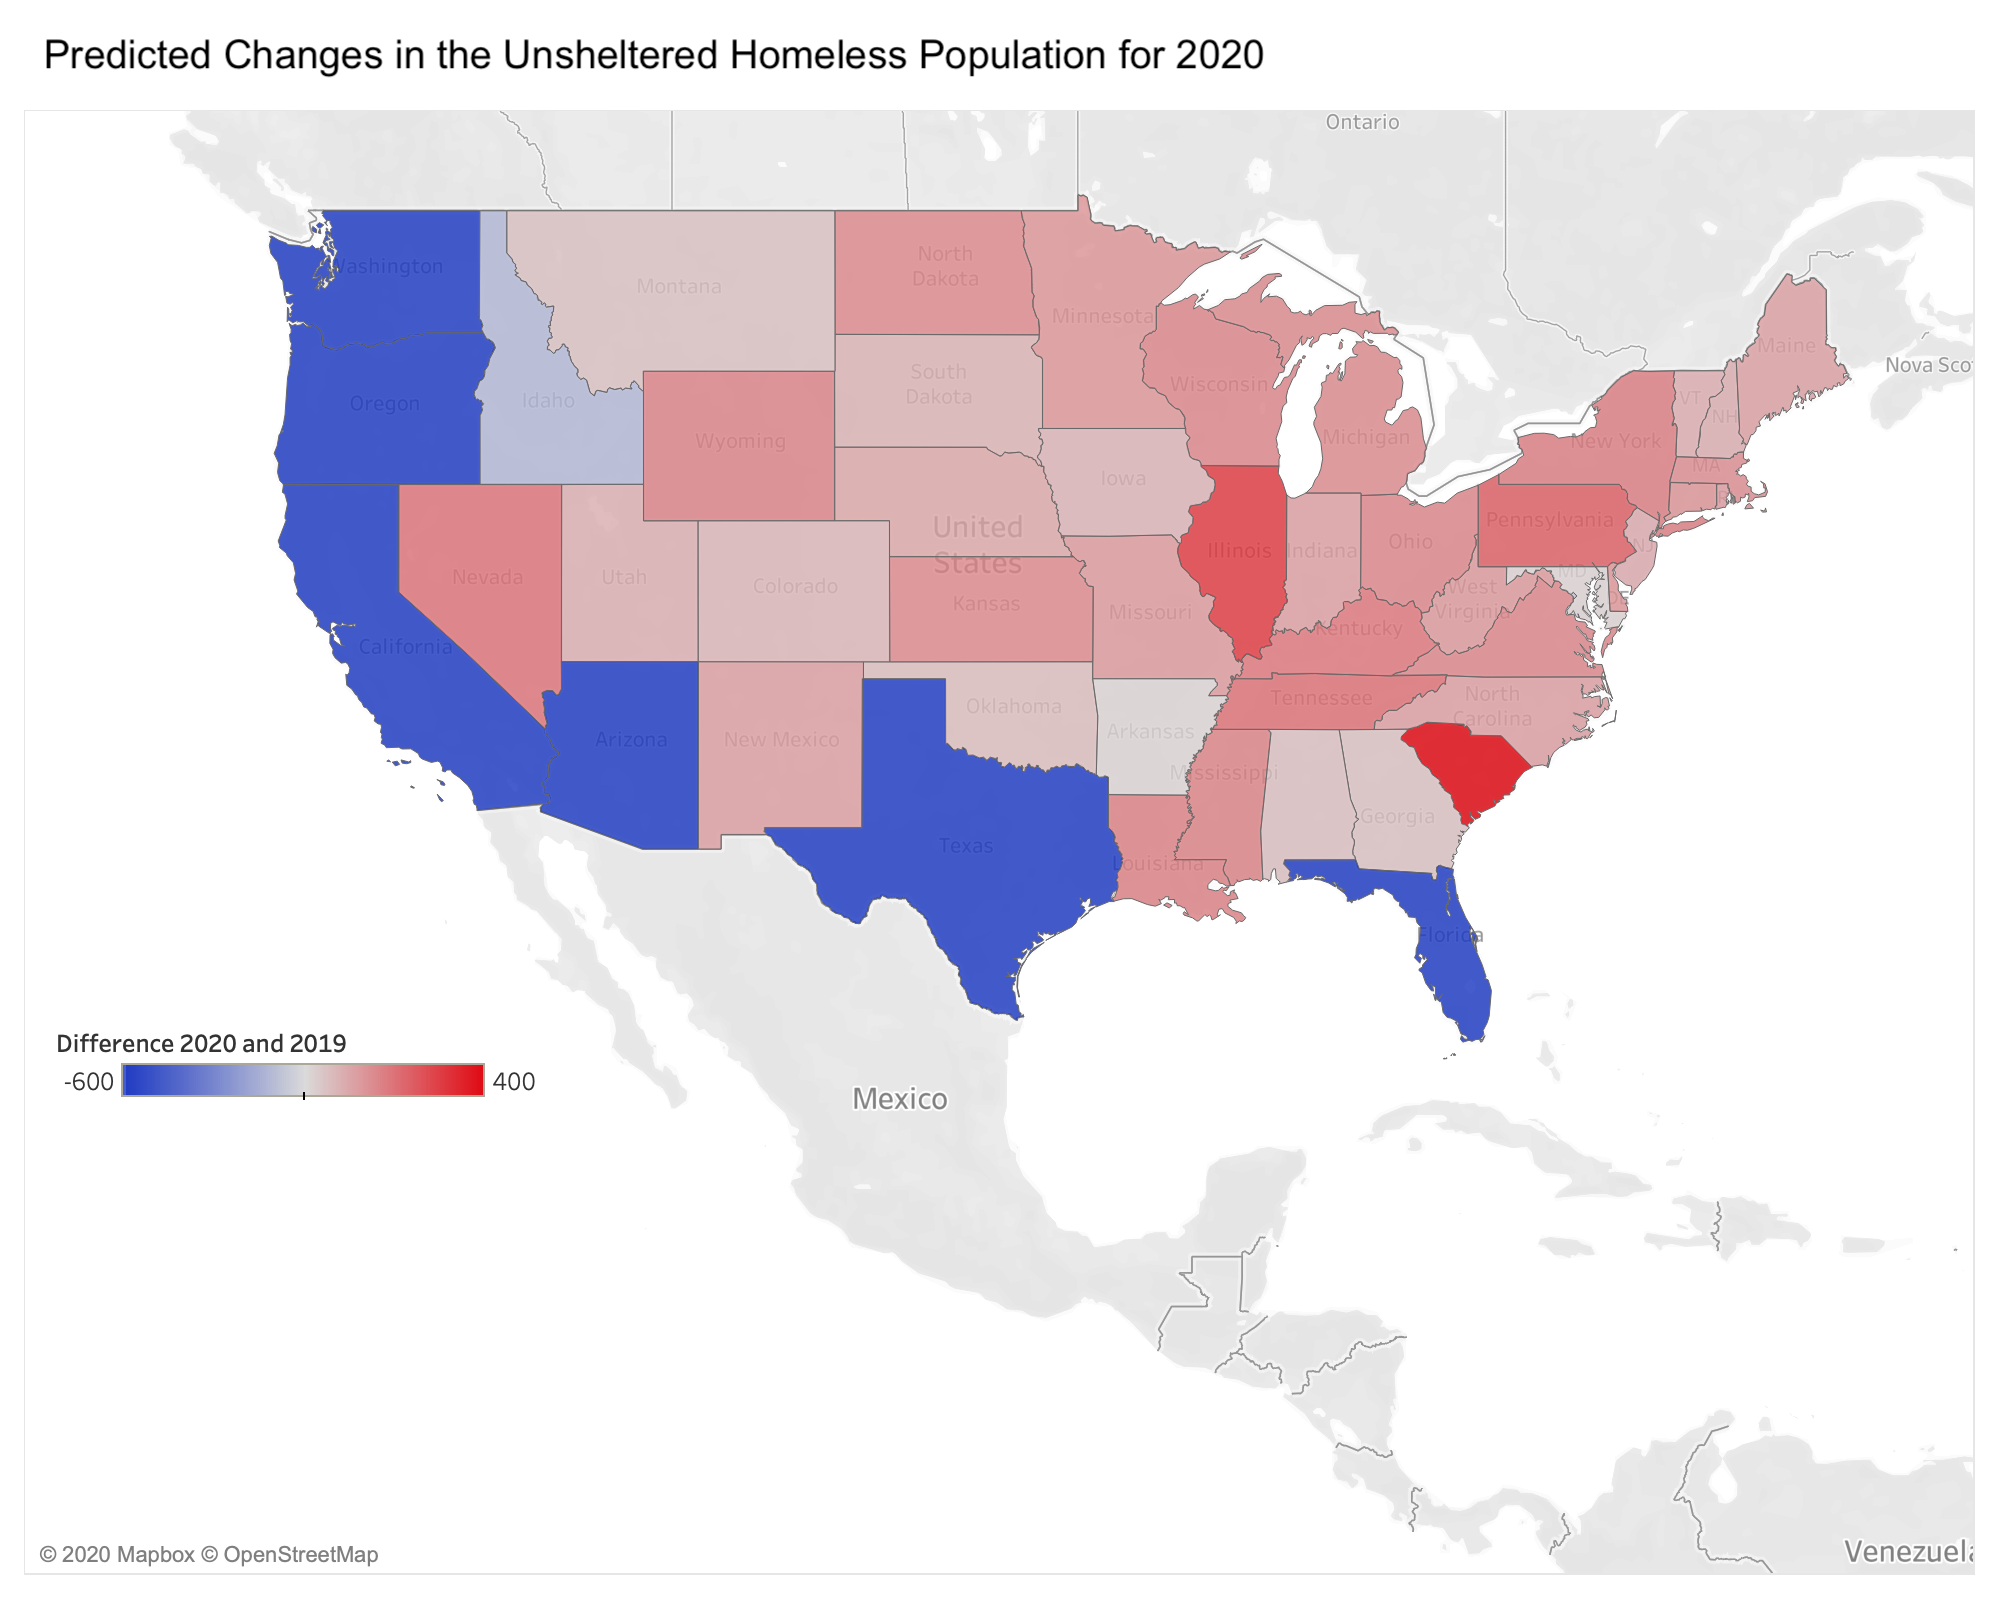

The page's visual inventory and layout, read from the dashboard file:
{"tool":"tableau","page":{"name":"Dashboard 3","canvas":[1000,800],"ordinal":2},"visuals":[{"type":"worksheet","title":"Sheet 4","mark":"Automatic","box":[8,8,984,784]},{"type":"legend","title":"Sheet 4","param":"[federated.07q6ate1l3rx7z126dp6y1rtn74x].[sum:Calculation_33565913180819456:qk]","box":[28,509,245,79]}]}

Visuals, with their boxes in screenshot pixels (x1, y1, x2, y2), scaled from the page's 1000x800 canvas onto the 2000x1600 screenshot:
"Sheet 4" worksheet: region(16, 16, 1984, 1584)
"Sheet 4" legend: region(56, 1018, 546, 1176)
